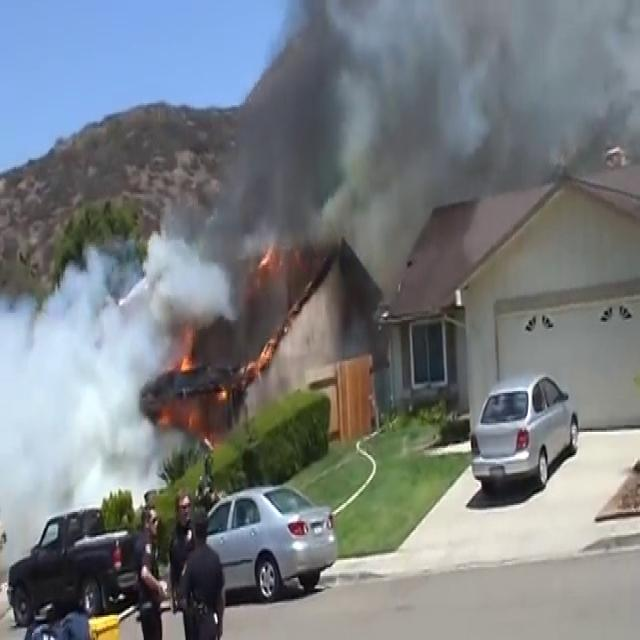Smoke: (240, 0, 640, 215), (0, 211, 223, 521)
